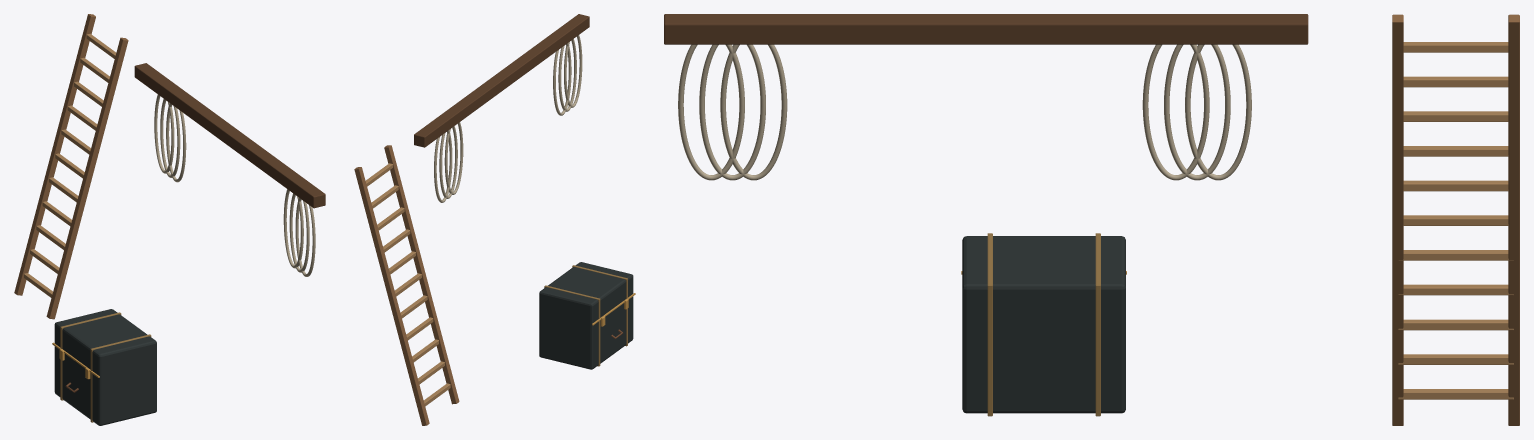
The model's file is SM_CP_BackstageRigging.fbx.
3 views of the same model, side by side, from view 1: azimuth 30°, elevation 25°; view 2: azimuth 150°, elevation 25°; view 3: azimuth 270°, elevation 25° (orthographic). The views are drawn at different scales.
Visible parts, largest first — view 1: SM_CP_BackstageRigging; view 2: SM_CP_BackstageRigging; view 3: SM_CP_BackstageRigging.
Boxes of the visible parts, left/top/right/bottom form: SM_CP_BackstageRigging: left=14, top=14, right=325, bottom=425; SM_CP_BackstageRigging: left=354, top=14, right=635, bottom=425; SM_CP_BackstageRigging: left=664, top=14, right=1519, bottom=425.
Size of what is drawn, in the model's own units: 306 by 811 by 497.
